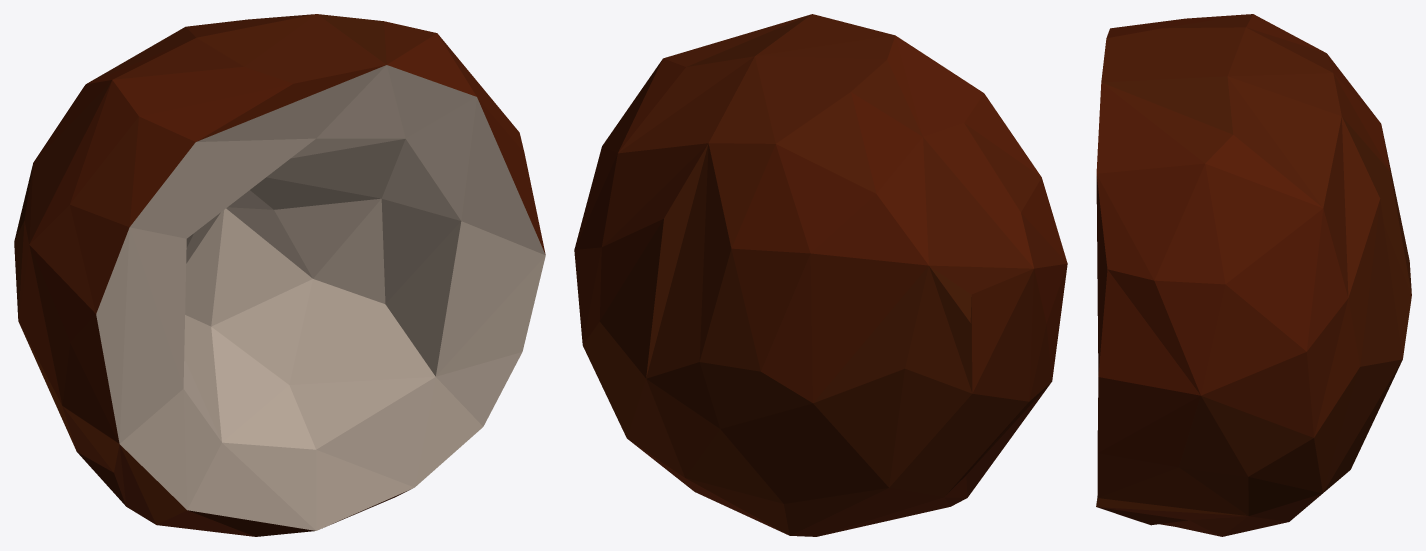
File: coconut-half.glb
3 views of the same model, side by side, from view 1: azimuth 30°, elevation 25°; view 2: azimuth 150°, elevation 25°; view 3: azimuth 270°, elevation 25° (orthographic). The views are drawn at different scales.
Visible parts, largest first — view 1: coconut-half; view 2: coconut-half; view 3: coconut-half.
Boxes of the visible parts, x1=… form: coconut-half: x1=14, y1=14, x2=545, y2=536; coconut-half: x1=574, y1=14, x2=1067, y2=536; coconut-half: x1=1096, y1=14, x2=1411, y2=536.
Size of the model in its own units: 0.2031 by 0.1932 by 0.1207.
